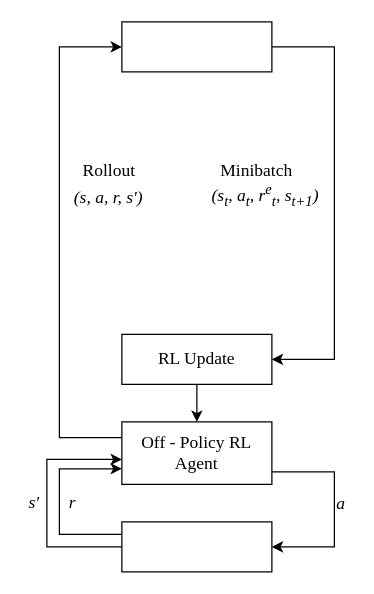
Image size: 374x594. Some labels were removed from this diagram. The box of each missing label's shape, as (x1, y1, x2, y2) in pixels:
Environment: (121, 521, 272, 572)
Replay Buffer: (121, 21, 272, 72)
